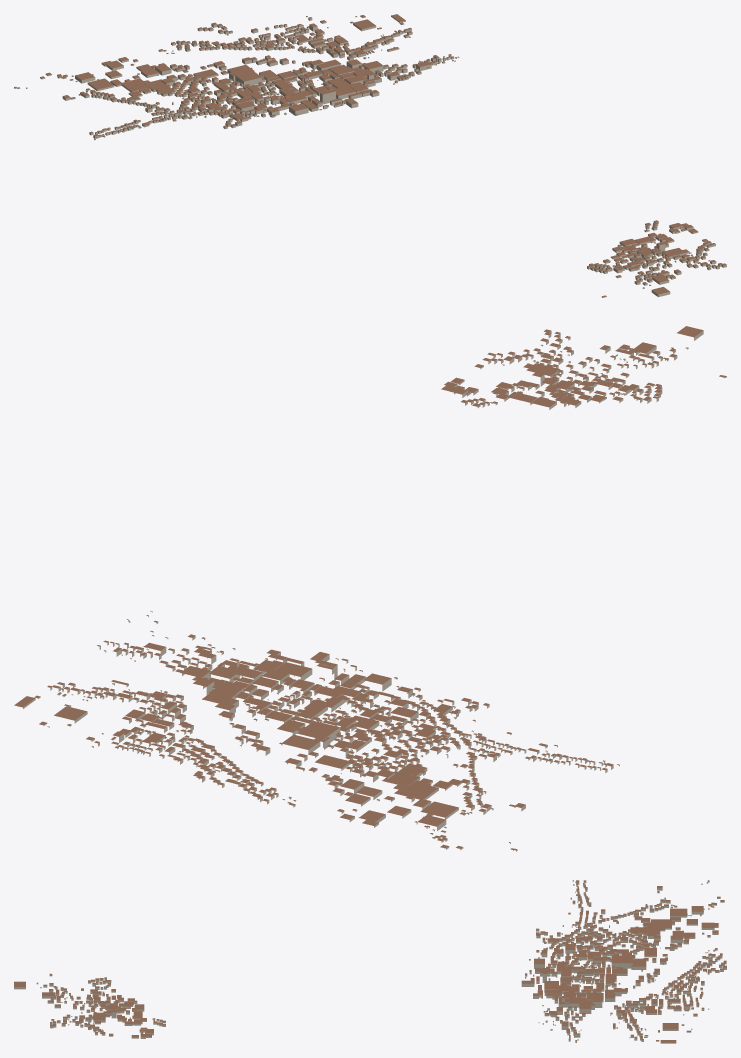
Rendered from diekirch_bastendorf_reference.glb.
3 views of the same model, one above another, from view 1: azimuth 30°, elevation 25°; view 2: azimuth 150°, elevation 25°; view 3: azimuth 270°, elevation 25° (orthographic). The views are drawn at different scales.
Parts seen in each view (by area): view 1: CityGML_Reference_District; view 2: CityGML_Reference_District; view 3: CityGML_Reference_District.
Part boxes in pixels (x1=…): CityGML_Reference_District: x1=14, y1=14, x2=726, y2=297; CityGML_Reference_District: x1=14, y1=326, x2=726, y2=851; CityGML_Reference_District: x1=14, y1=880, x2=726, y2=1043.
Size of the model in its own units: 2030 by 90.22 by 3822.
